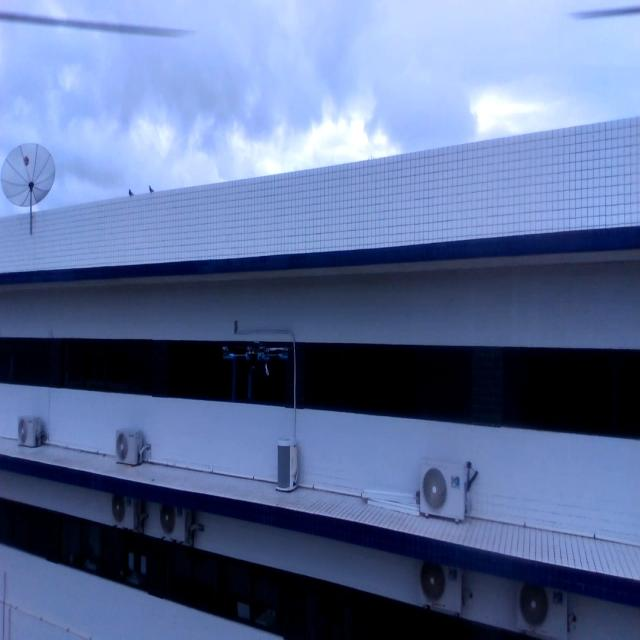-uav-: (216, 331, 299, 402)
